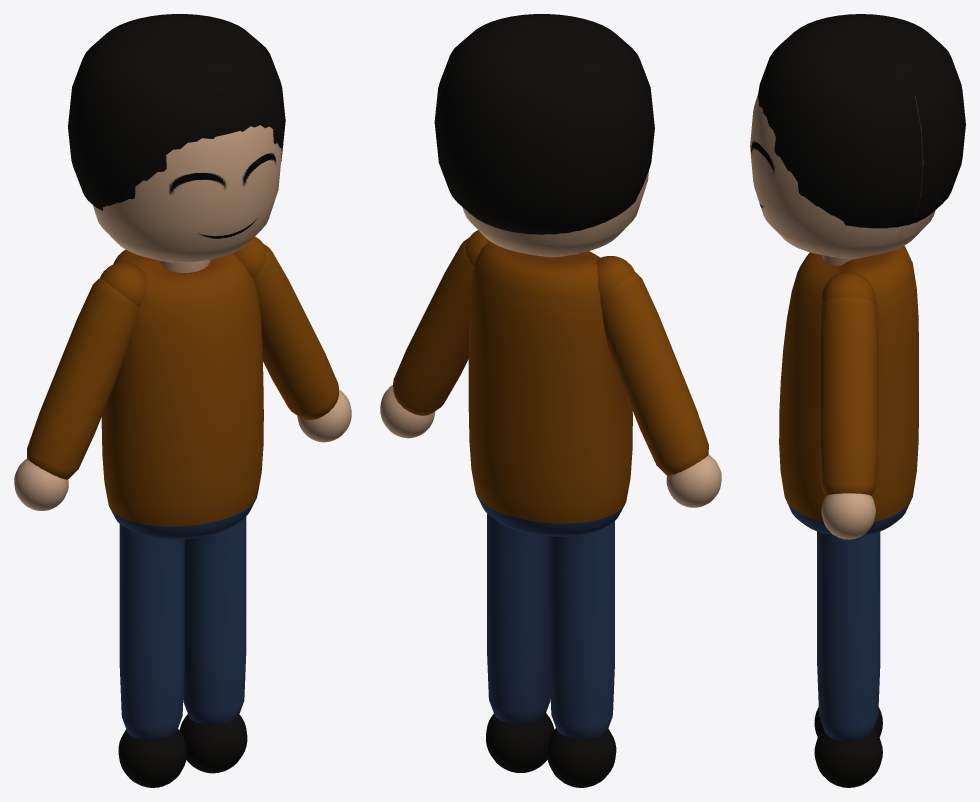
Rendered from Receptionist.glb.
The picture shows the model from 3 angles, left to right: view 1: azimuth 30°, elevation 25°; view 2: azimuth 150°, elevation 25°; view 3: azimuth 270°, elevation 25°; orthographic projection.
Parts seen in each view (by area): view 1: Receptionist; view 2: Receptionist; view 3: Receptionist.
Boxes of the visible parts, <box> form: Receptionist: <box>14,14,351,787</box>; Receptionist: <box>380,14,721,787</box>; Receptionist: <box>750,14,965,787</box>.
Size of the model in its own units: 2.85 by 6.08 by 1.62.
1 material, 1 textured.
